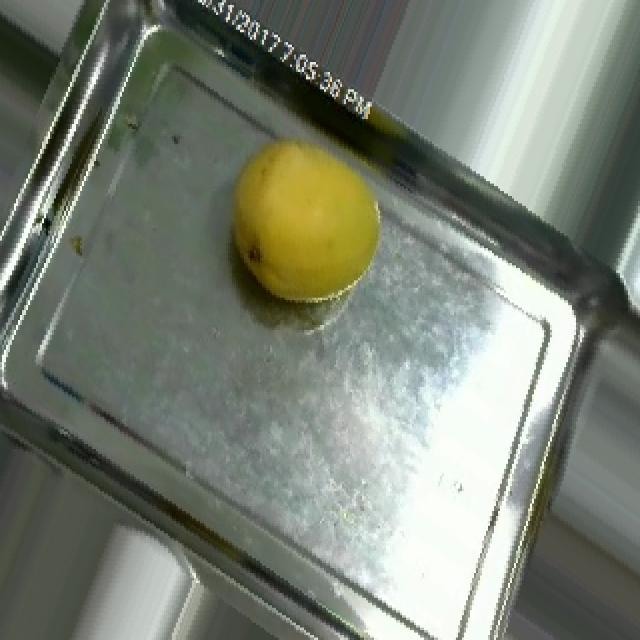fruit: (180, 102, 416, 350), (0, 389, 158, 640)
